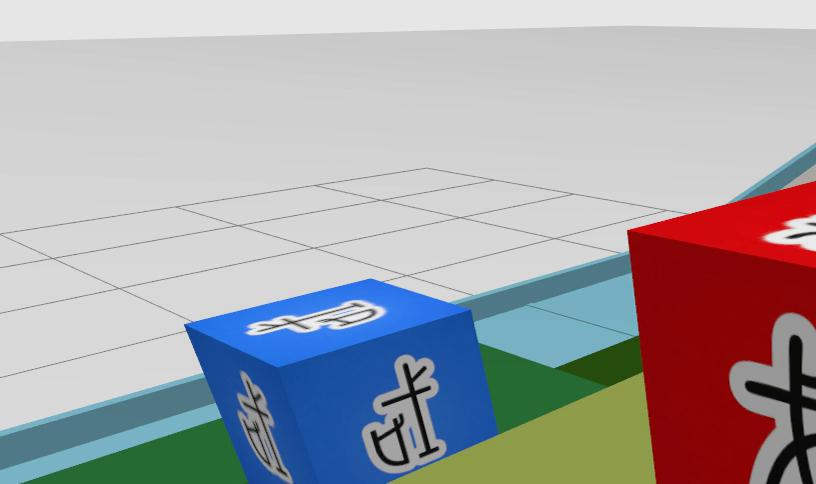KFS_FAKE: (629, 180, 816, 484), (729, 313, 816, 484), (764, 214, 816, 251)
KFS_REAL: (188, 280, 496, 484), (362, 355, 446, 473), (236, 371, 292, 484), (246, 300, 385, 334)
